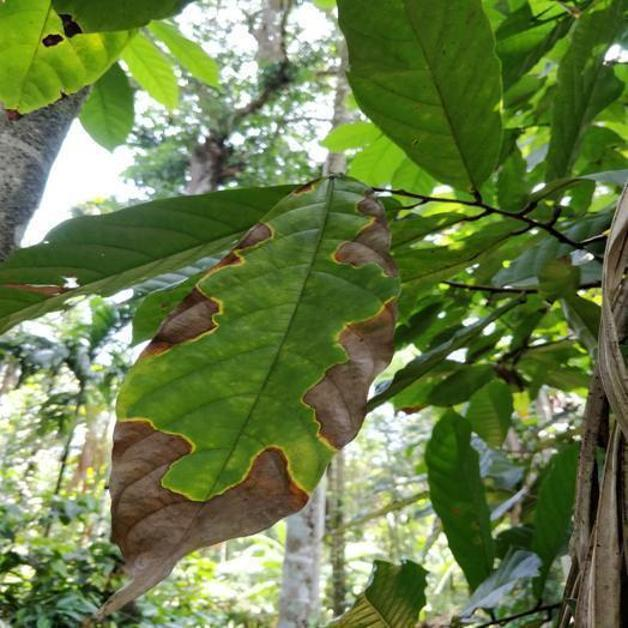Potassium: (102, 176, 398, 613)
